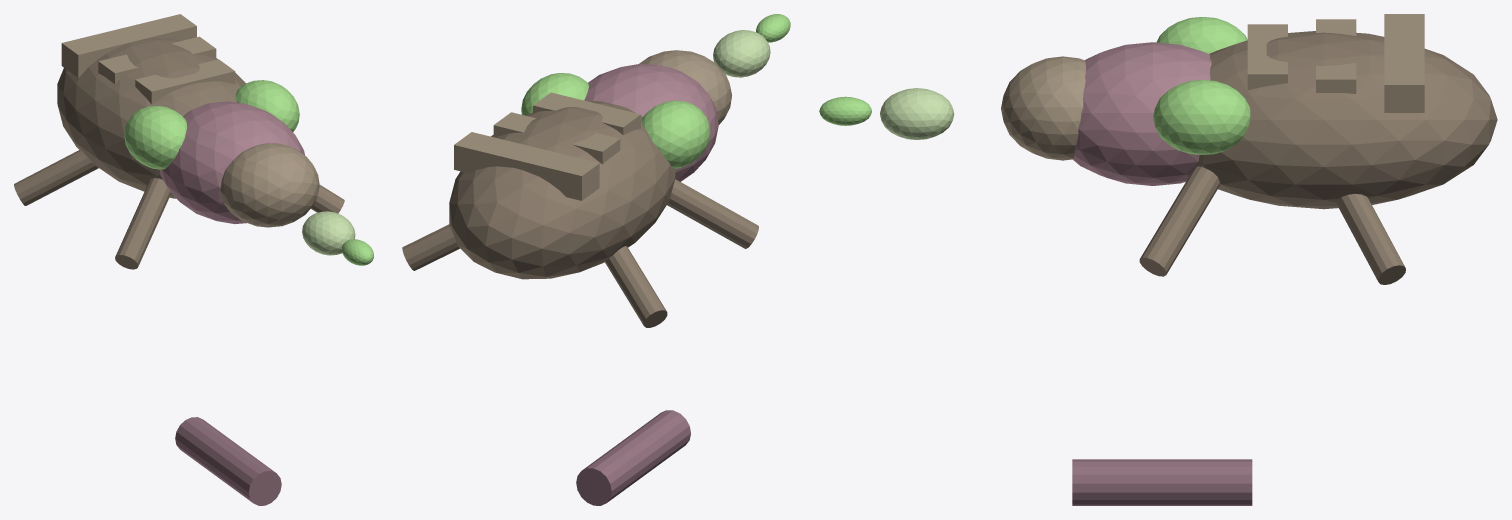
File: zglengo_spitter.glb
3 renders of one model, left to right at view 1: azimuth 30°, elevation 25°; view 2: azimuth 150°, elevation 25°; view 3: azimuth 270°, elevation 25°, orthographic. The views are drawn at different scales.
Parts seen in each view (by area): view 1: plated_abdomen, thorax, head, spit_organ, back_plate_0, acid_sac_-1, front_leg_-1, rear_leg_-1, acid_sac_1, back_plate_2, spit_muzzle, back_plate_1 (+2 smaller); view 2: plated_abdomen, spit_organ, thorax, back_plate_0, acid_sac_-1, front_leg_-1, rear_leg_-1, head, spit_muzzle, back_plate_2, back_plate_1, acid_sac_1 (+2 smaller); view 3: plated_abdomen, thorax, spit_organ, head, acid_sac_1, back_plate_0, front_leg_1, spit_muzzle, rear_leg_1, acid_sac_-1, back_plate_2, back_plate_1 (+1 smaller).
Boxes of the visible parts, <box> form: plated_abdomen: <box>57,38,245,198</box>; thorax: <box>159,101,304,223</box>; head: <box>220,143,319,227</box>; spit_organ: <box>175,417,281,505</box>; back_plate_0: <box>61,14,196,77</box>; acid_sac_-1: <box>124,106,186,169</box>; front_leg_-1: <box>115,178,171,269</box>; rear_leg_-1: <box>14,150,98,205</box>; acid_sac_1: <box>236,80,299,131</box>; back_plate_2: <box>135,59,235,104</box>; spit_muzzle: <box>302,211,355,255</box>; back_plate_1: <box>98,36,216,83</box>; plated_abdomen: <box>449,101,675,279</box>; spit_organ: <box>576,410,690,505</box>; thorax: <box>584,63,718,181</box>; back_plate_0: <box>454,132,599,200</box>; acid_sac_-1: <box>641,100,710,168</box>; front_leg_-1: <box>667,179,758,248</box>; rear_leg_-1: <box>605,246,667,327</box>; head: <box>639,50,731,124</box>; spit_muzzle: <box>713,30,770,77</box>; back_plate_2: <box>533,92,640,135</box>; back_plate_1: <box>493,112,620,164</box>; acid_sac_1: <box>521,73,588,115</box>; plated_abdomen: <box>1197,31,1497,209</box>; thorax: <box>1072,42,1211,185</box>; spit_organ: <box>1072,459,1252,505</box>; head: <box>1001,56,1085,160</box>; acid_sac_1: <box>1153,79,1250,154</box>; back_plate_0: <box>1384,14,1424,112</box>; front_leg_1: <box>1139,166,1219,276</box>; spit_muzzle: <box>880,88,954,139</box>; rear_leg_1: <box>1336,194,1405,284</box>; acid_sac_-1: <box>1156,17,1247,53</box>; back_plate_2: <box>1247,24,1287,89</box>; back_plate_1: <box>1316,19,1356,93</box>.
Size of the model in its own units: 1.1 by 1.63 by 2.19.
